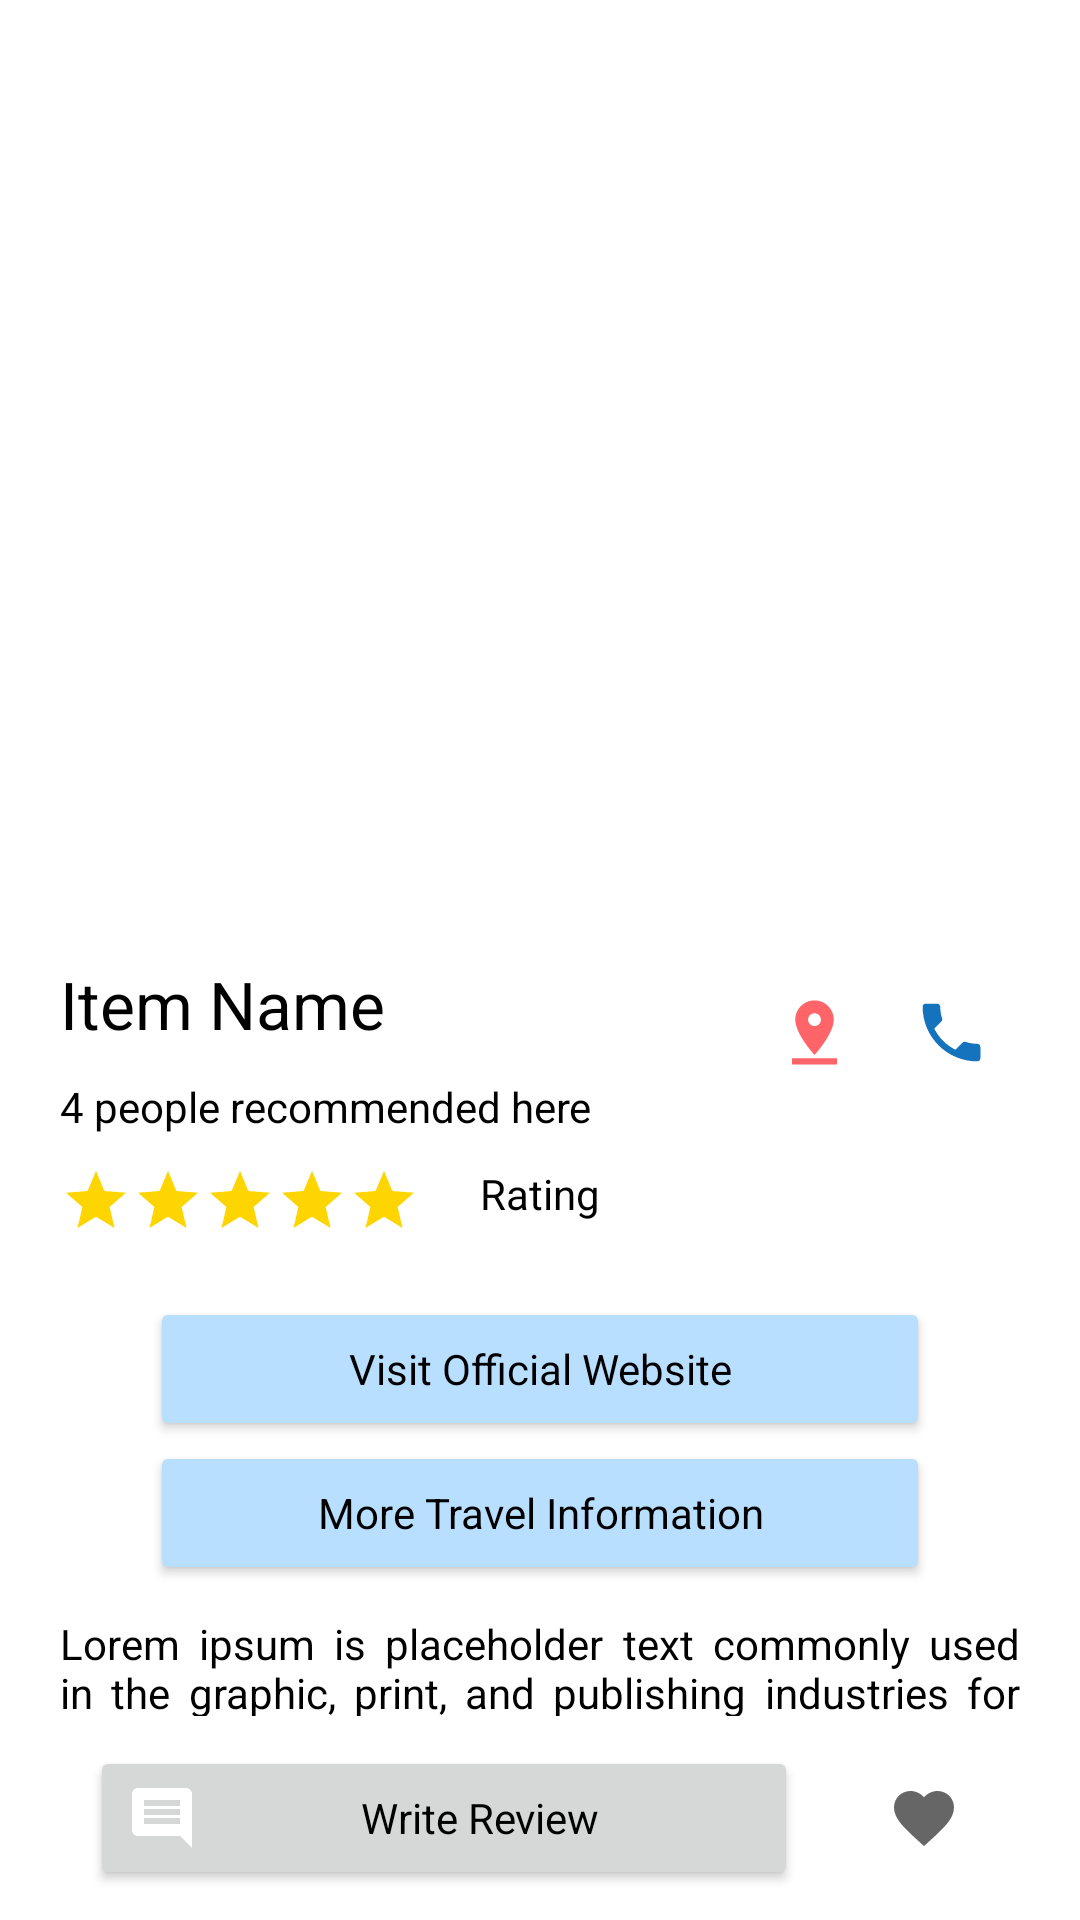

Locate icon controls on the screen. Image size 1080px x 1920px, boxes as (x1, y1, x2, y2).
favorite: (894, 1791, 954, 1846)
phone: (922, 1003, 981, 1062)
pin drop: (792, 1000, 837, 1065)
star: (66, 1171, 126, 1228), (138, 1171, 198, 1228), (210, 1171, 270, 1228), (282, 1171, 342, 1228), (354, 1171, 414, 1228)
